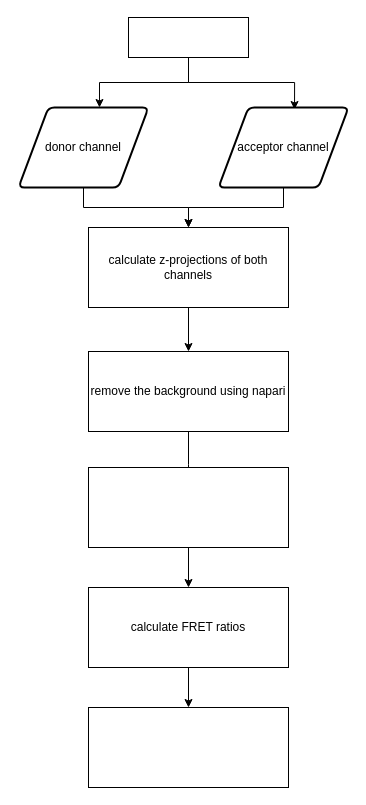
Image size: 366x805. Some labels were removed from this diagram. The box of each missing label's shape, as (x1, y1, x2, y2) in pixels:
export as gif: (88, 706, 288, 788)
load the data: (128, 16, 248, 58)
remove noise data using gaussian smoothing: (88, 466, 288, 548)
